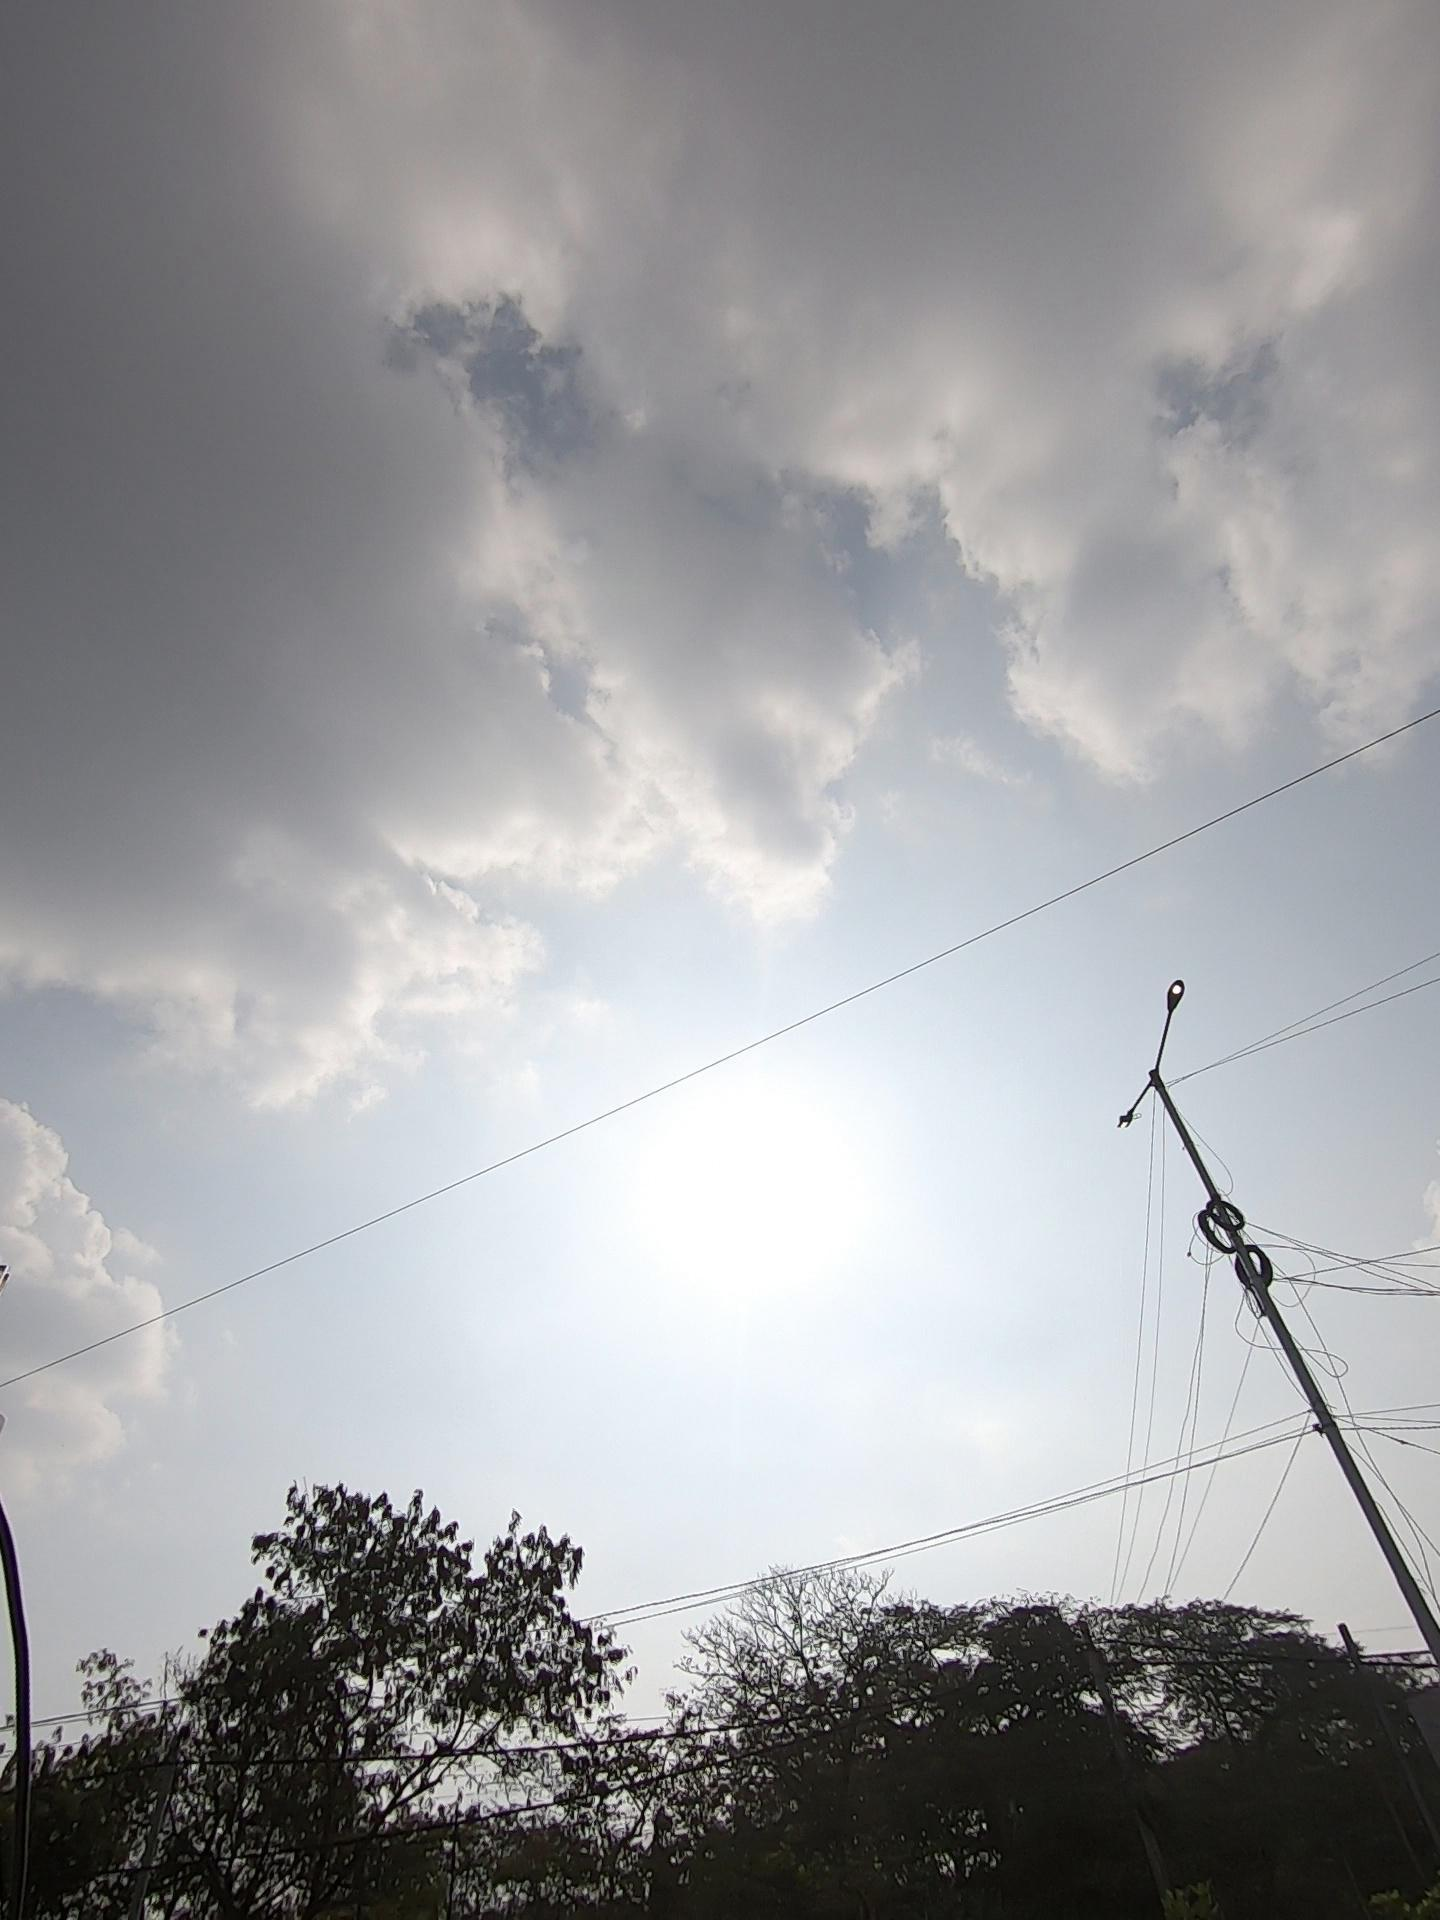off: (1050, 951, 1219, 1152)
